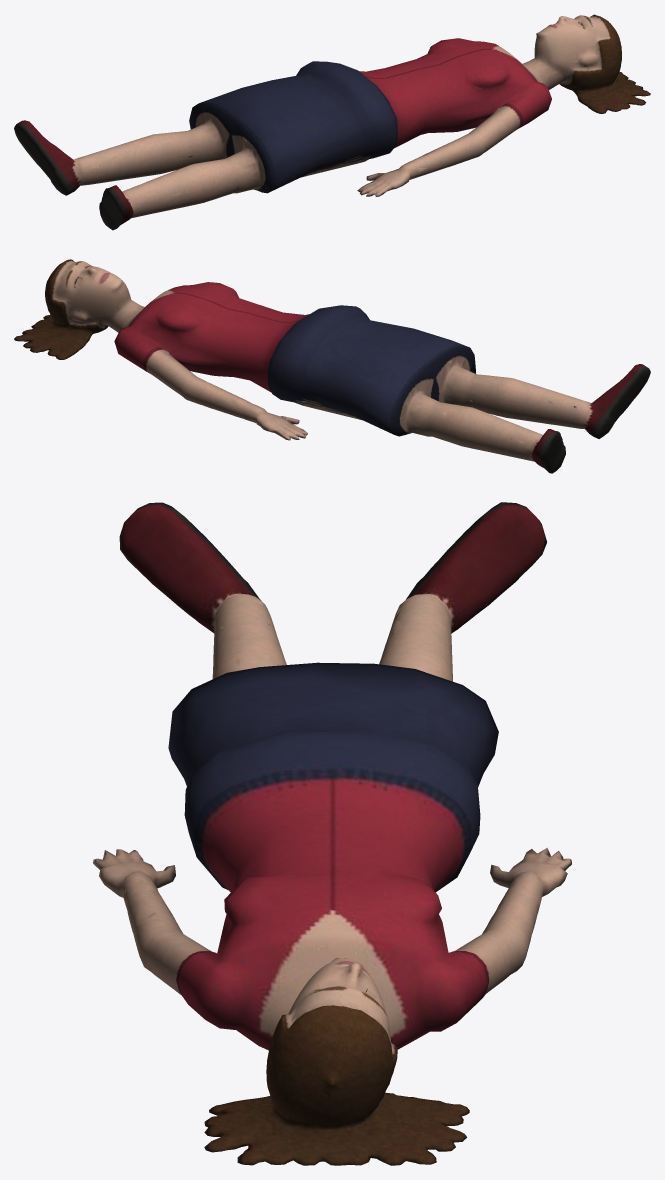
File: victim_female_face_up.glb
The picture shows the model from 3 angles, top to bottom: view 1: azimuth 30°, elevation 25°; view 2: azimuth 150°, elevation 25°; view 3: azimuth 270°, elevation 25°; orthographic projection. The views are drawn at different scales.
Parts seen in each view (by area): view 1: victim_female_face_up; view 2: victim_female_face_up; view 3: victim_female_face_up.
Part boxes in pixels (x1,y1,x2,y2): victim_female_face_up: [14, 14, 650, 230]; victim_female_face_up: [14, 259, 650, 473]; victim_female_face_up: [93, 502, 571, 1165].
Bounding box in the file's own units: 1.73 × 0.2236 × 0.6392.
1 material, 1 textured.
